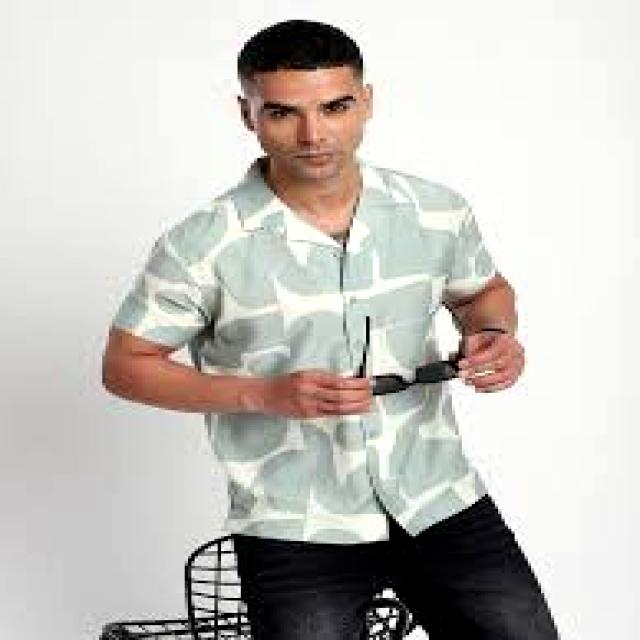face: (238, 67, 372, 182)
lower-wear: (235, 495, 557, 639)
top-wear: (113, 159, 498, 375)
